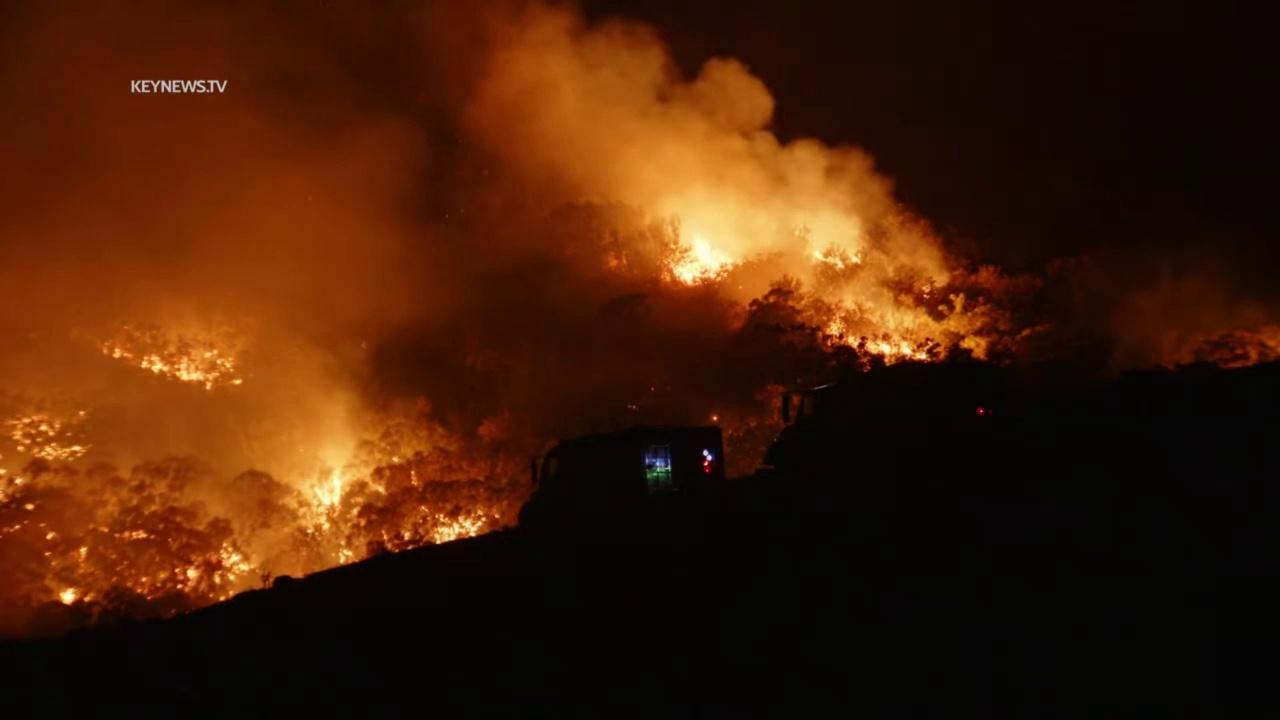fire: (56, 522, 255, 610), (98, 323, 245, 394), (302, 452, 355, 566), (669, 225, 743, 287), (822, 323, 931, 364), (11, 416, 90, 463), (418, 503, 489, 546), (812, 245, 838, 266), (849, 251, 864, 265), (25, 333, 39, 341), (665, 383, 673, 396), (632, 404, 640, 412), (710, 415, 720, 421), (648, 385, 656, 392)
smoke: (0, 0, 1280, 649)
